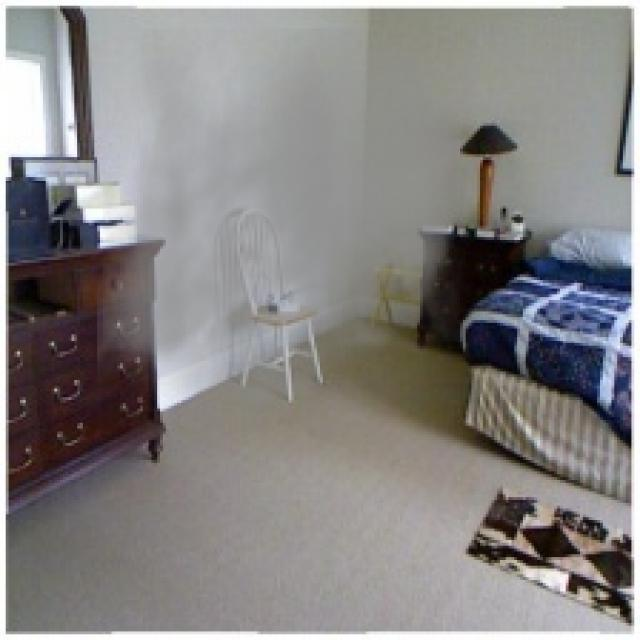Smoke: (97, 28, 474, 443)
